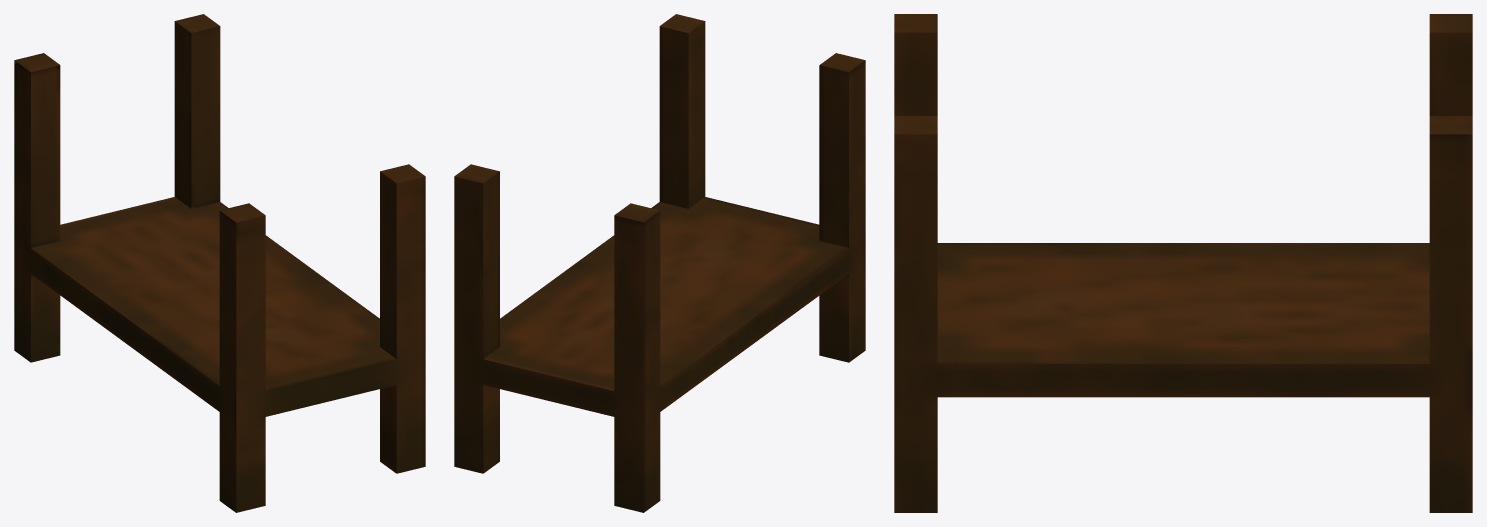
File: BarracaZefir.fbx
3 views of the same model, side by side, from view 1: azimuth 30°, elevation 25°; view 2: azimuth 150°, elevation 25°; view 3: azimuth 270°, elevation 25° (orthographic). The views are drawn at different scales.
Parts seen in each view (by area): view 1: Cube.071; view 2: Cube.071; view 3: Cube.071.
Boxes of the visible parts, x1=… form: Cube.071: x1=14, y1=14, x2=425, y2=512; Cube.071: x1=454, y1=14, x2=865, y2=512; Cube.071: x1=894, y1=14, x2=1472, y2=512.
Size of the model in its own units: 197 by 288 by 399.
Materials: 1 (1 with a texture image).
